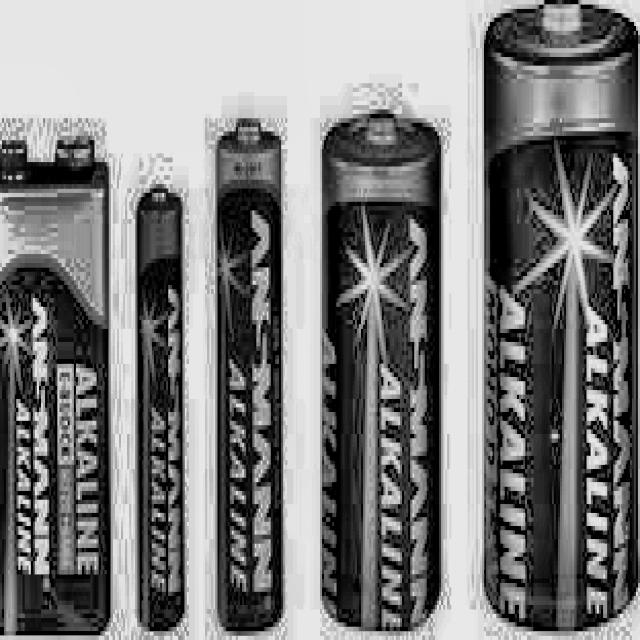Battery: (486, 0, 638, 622), (322, 114, 441, 627), (0, 140, 109, 632), (217, 114, 281, 632), (138, 184, 182, 626)
